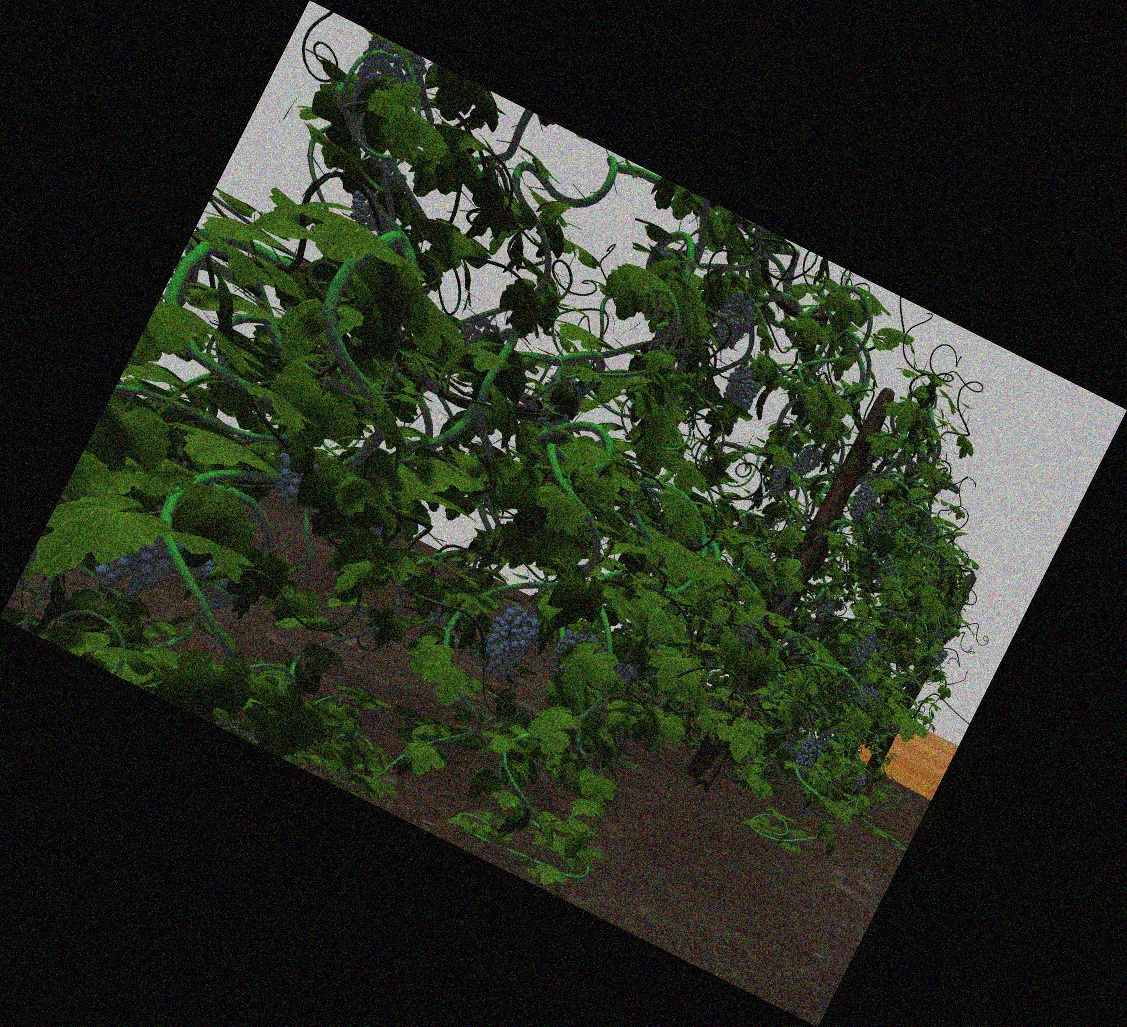grape: (103, 527, 167, 596), (486, 610, 530, 673), (715, 295, 751, 349), (270, 455, 307, 507), (727, 366, 760, 408), (853, 479, 875, 518), (797, 738, 817, 774), (853, 632, 873, 665), (768, 463, 789, 493), (800, 446, 821, 475), (859, 686, 875, 706), (854, 773, 866, 789), (934, 648, 947, 662)
